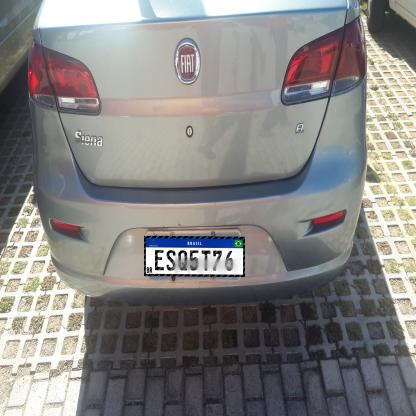PlacaM: (144, 236, 245, 277)
